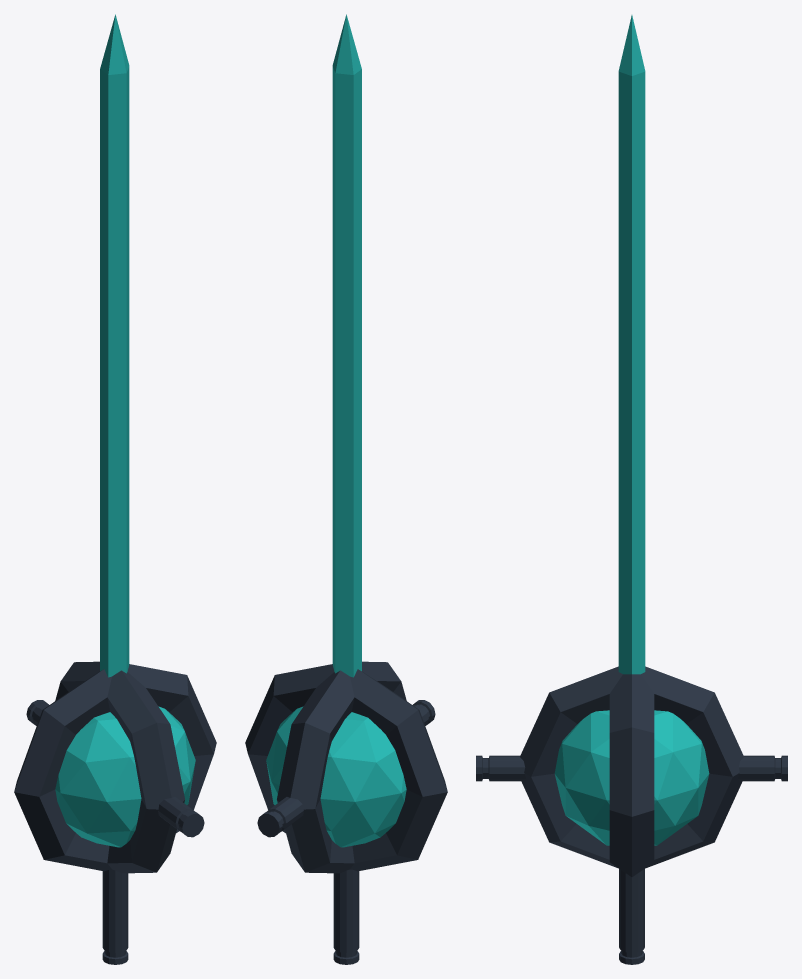
The model's file is espada.obj.
3 views of the same model, side by side, from view 1: azimuth 30°, elevation 25°; view 2: azimuth 150°, elevation 25°; view 3: azimuth 270°, elevation 25° (orthographic).
Visible parts, largest first — view 1: Icosphere, Torus, Torus.001, Cylinder, Cylinder.001; view 2: Icosphere, Torus, Torus.001, Cylinder, Cylinder.001; view 3: Icosphere, Torus.001, Torus, Cylinder.001, Cylinder.
Boxes of the visible parts, bbox=[...] form: Icosphere: bbox=[55, 14, 195, 847]; Torus: bbox=[14, 664, 216, 871]; Torus.001: bbox=[55, 661, 184, 873]; Cylinder: bbox=[102, 869, 128, 964]; Cylinder.001: bbox=[26, 700, 204, 837]; Icosphere: bbox=[266, 14, 406, 847]; Torus: bbox=[245, 664, 447, 871]; Torus.001: bbox=[277, 661, 406, 873]; Cylinder: bbox=[333, 869, 359, 964]; Cylinder.001: bbox=[257, 700, 435, 837]; Icosphere: bbox=[554, 15, 709, 845]; Torus.001: bbox=[520, 666, 743, 868]; Torus: bbox=[609, 674, 654, 876]; Cylinder.001: bbox=[476, 755, 787, 781]; Cylinder: bbox=[619, 869, 644, 964].
Size of the model in its own units: 0.7127 by 3.18 by 0.9492.
